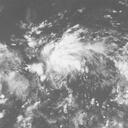cyclone: (25, 31, 86, 87)
